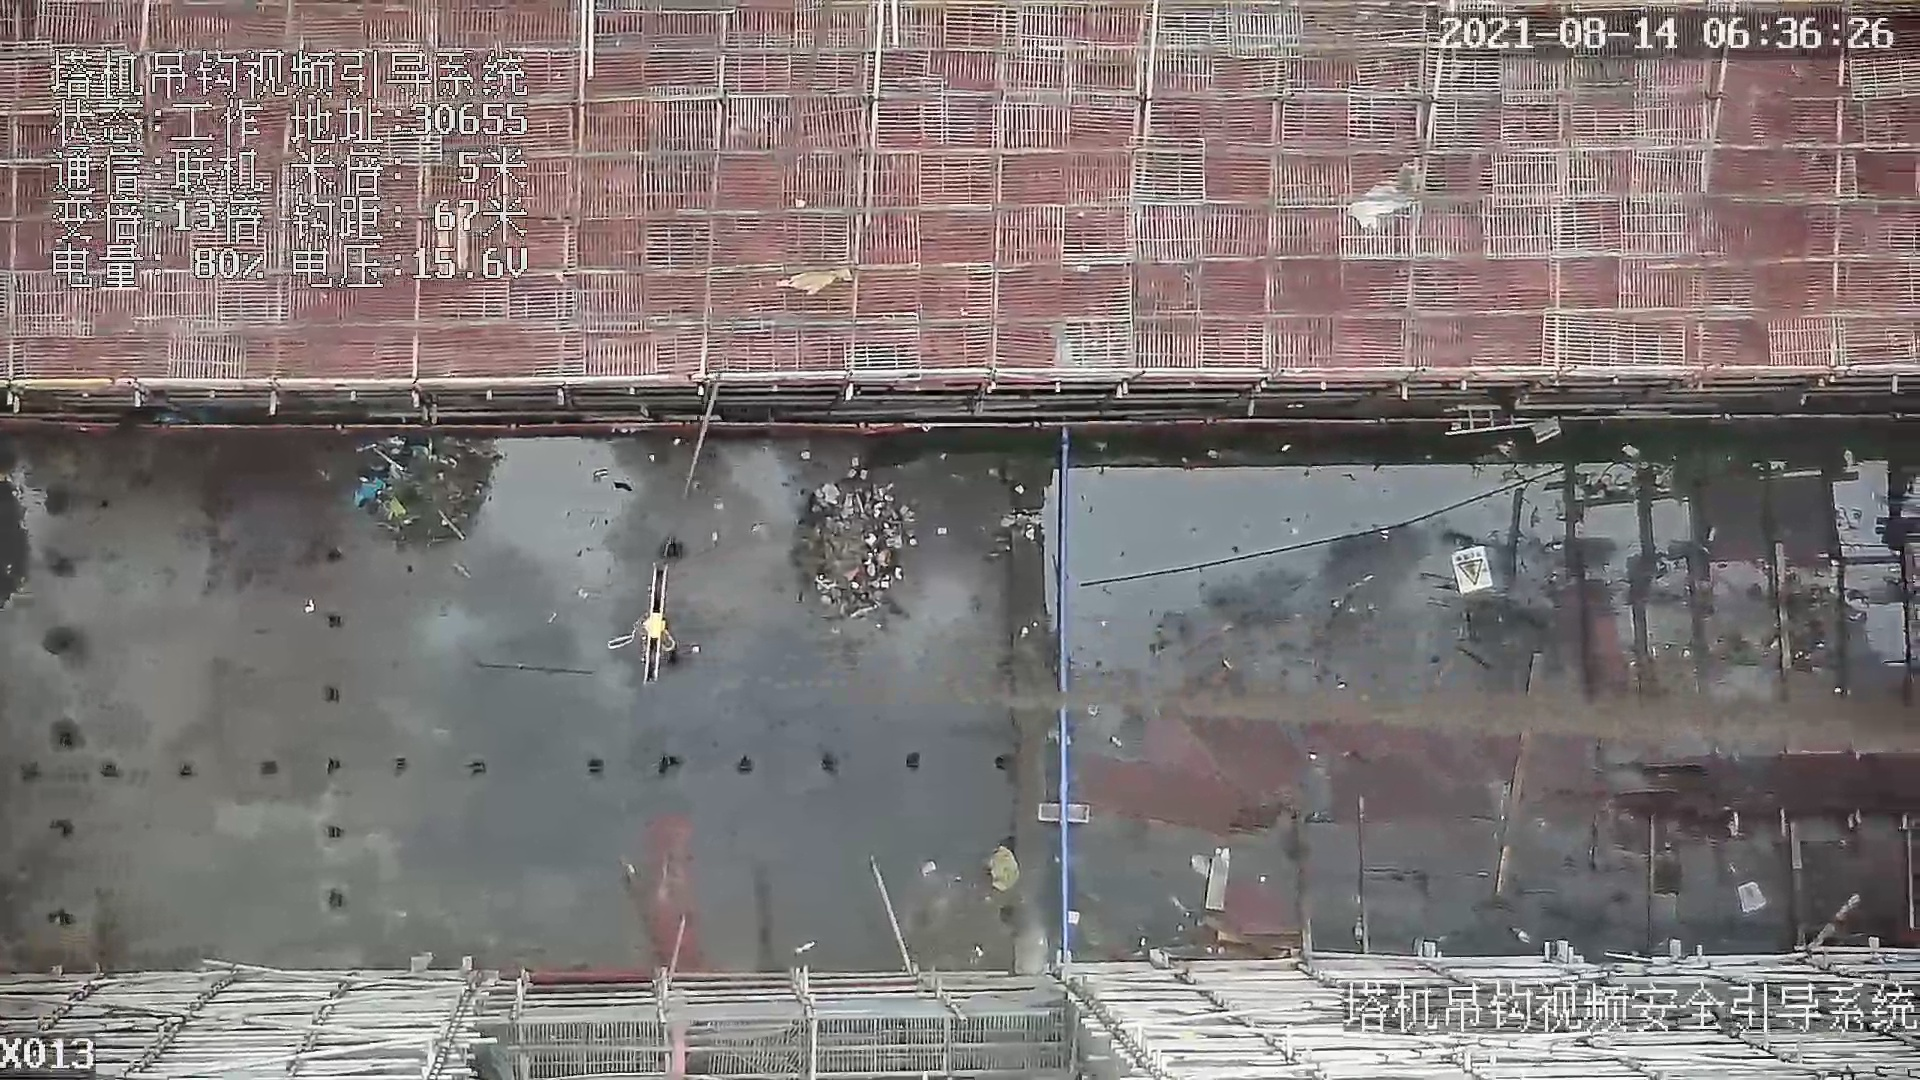hook: (605, 568, 682, 684)
